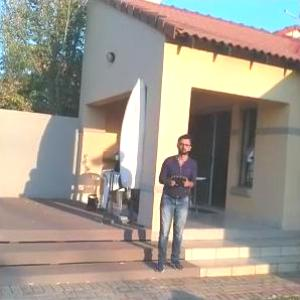follow: (151, 131, 198, 276)
